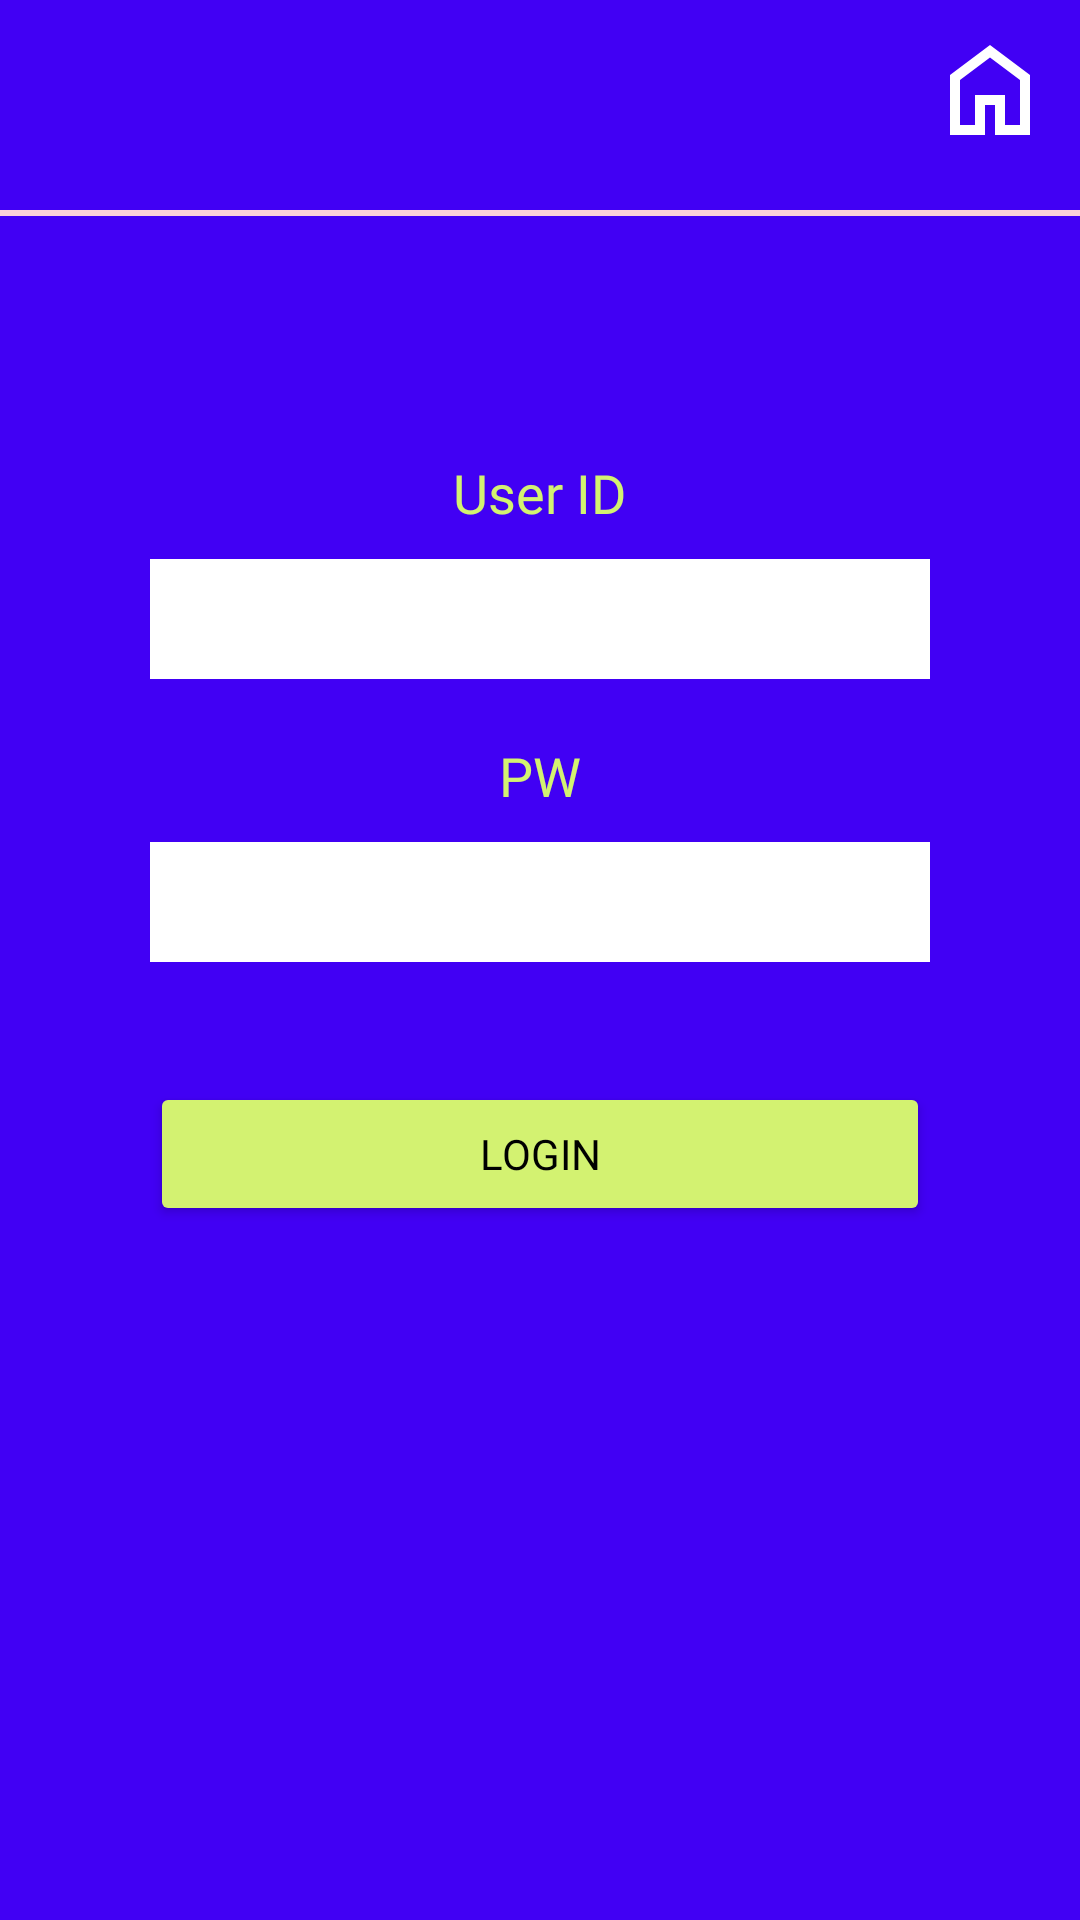

Icons on this 1080w x 1920h Android screen, each with its box as region(x1, y1, x2, y2):
home: region(950, 45, 1030, 135)
